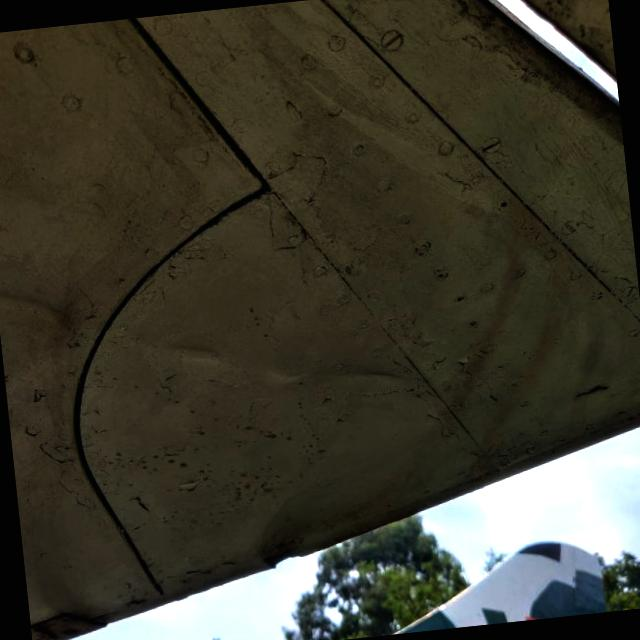dent: (316, 334, 426, 418), (148, 312, 242, 400)
